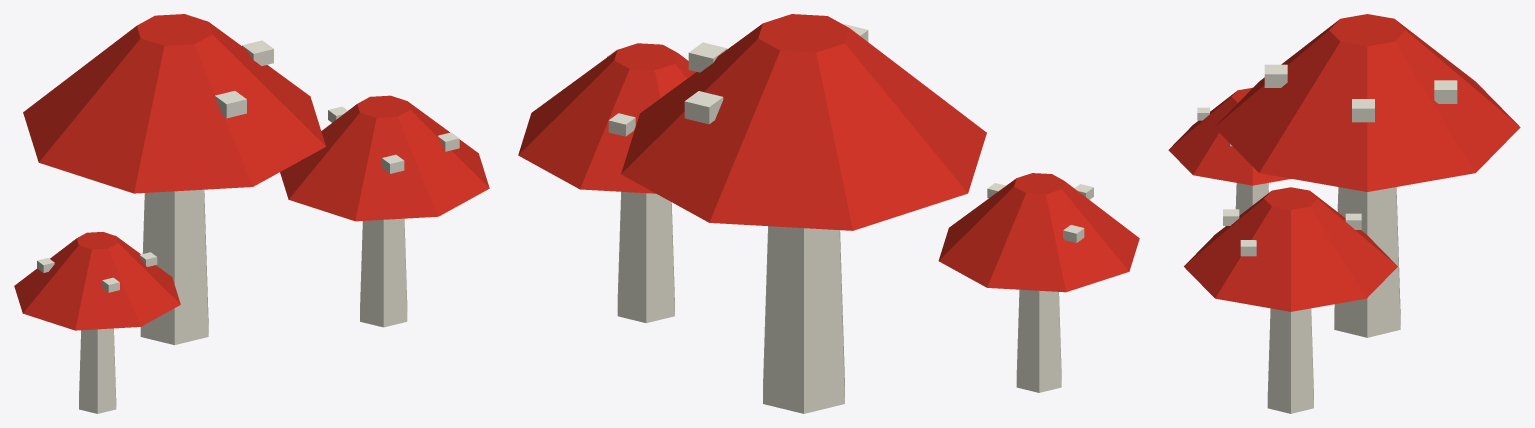
The model's file is mushrooms.glb.
3 views of the same model, side by side, from view 1: azimuth 30°, elevation 25°; view 2: azimuth 150°, elevation 25°; view 3: azimuth 270°, elevation 25° (orthographic). The views are drawn at different scales.
Visible parts, largest first — view 1: mushroom_red, white; view 2: mushroom_red, white; view 3: mushroom_red, white.
Boxes of the visible parts, x1,y1,x2,y2 form: mushroom_red: (14, 14, 489, 330); white: (37, 40, 459, 413); mushroom_red: (518, 14, 1139, 292); white: (607, 24, 1093, 413); mushroom_red: (1168, 14, 1520, 311); white: (1197, 64, 1457, 413).
Bounding box in the file's own units: 0.7 × 0.42 × 0.46.
